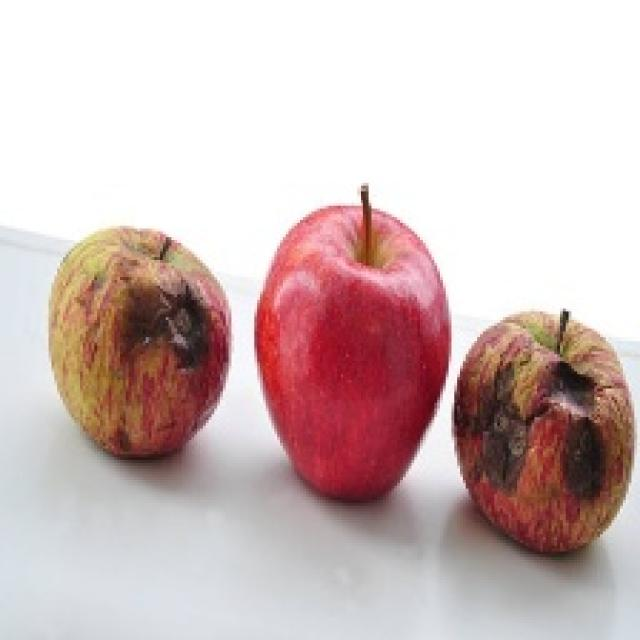rotten_apple: (456, 318, 632, 550), (54, 228, 232, 445)
